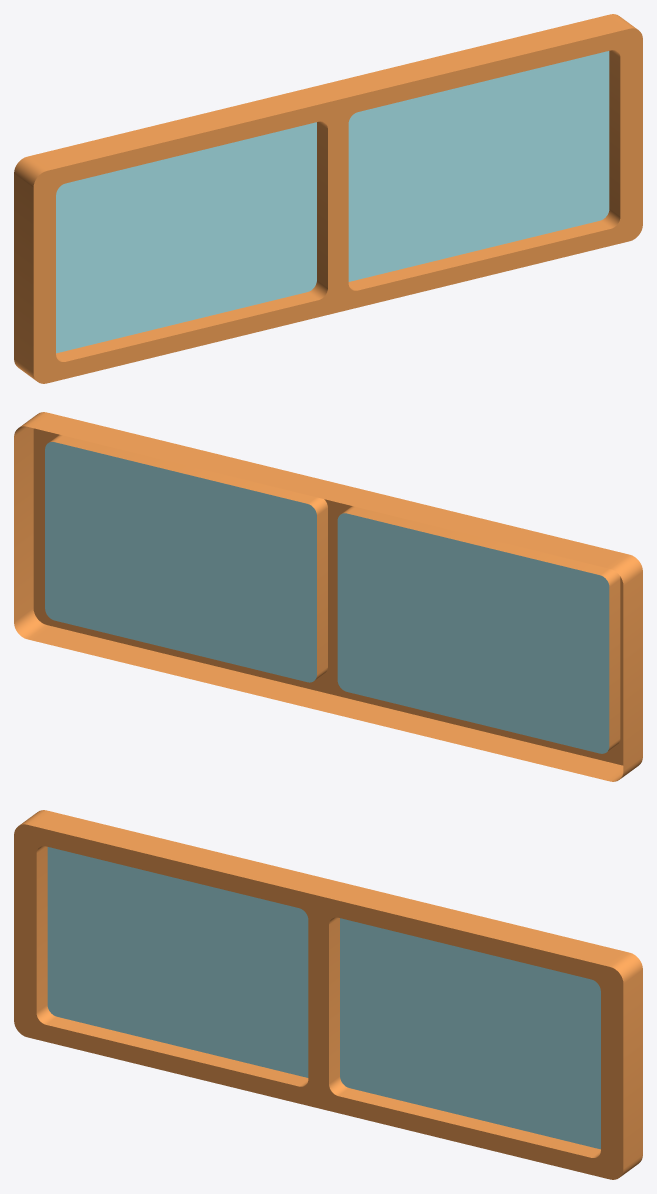
Rendered from Window.fbx.
The picture shows the model from 3 angles, top to bottom: view 1: azimuth 30°, elevation 25°; view 2: azimuth 150°, elevation 25°; view 3: azimuth 330°, elevation 25°; orthographic projection.
Parts seen in each view (by area): view 1: Window; view 2: Window; view 3: Window.
Boxes of the visible parts, x1,y1,x2,y2 form: Window: [14, 14, 642, 383]; Window: [14, 412, 642, 781]; Window: [14, 810, 642, 1179].
Bounding box in the file's own units: 638 × 213 × 35.45.
